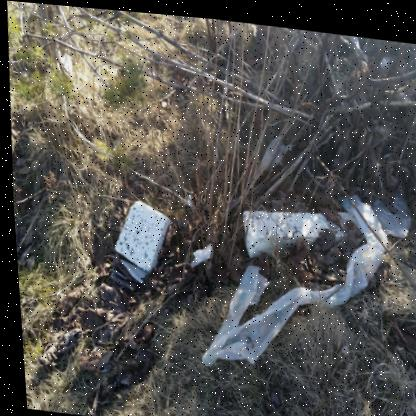Plastic: (198, 188, 385, 363), (370, 179, 409, 229), (258, 131, 295, 169), (117, 257, 147, 281), (187, 240, 210, 265), (349, 29, 363, 49), (379, 51, 388, 63)
Waste: (240, 206, 356, 253), (112, 199, 169, 270)
